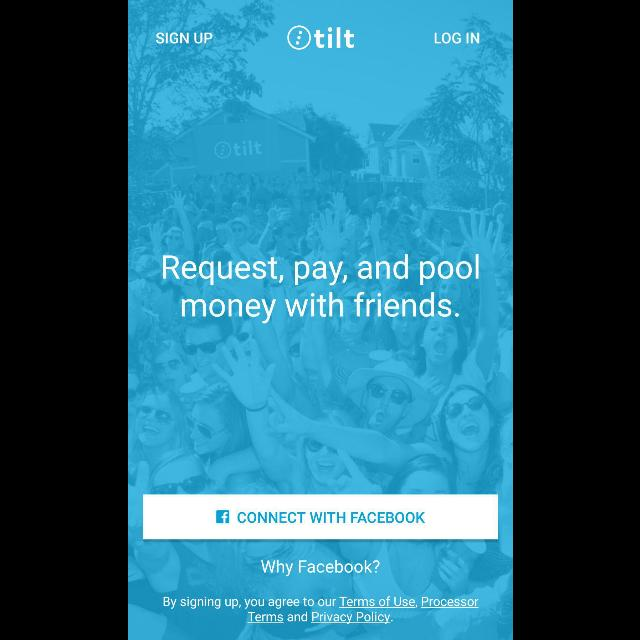backgroundimage: (128, 1, 512, 640)
image: (286, 26, 354, 50)
text: (162, 254, 478, 324), (162, 596, 478, 624), (260, 560, 380, 576), (156, 32, 212, 44), (434, 32, 478, 44)
textbutton: (142, 495, 498, 539)
